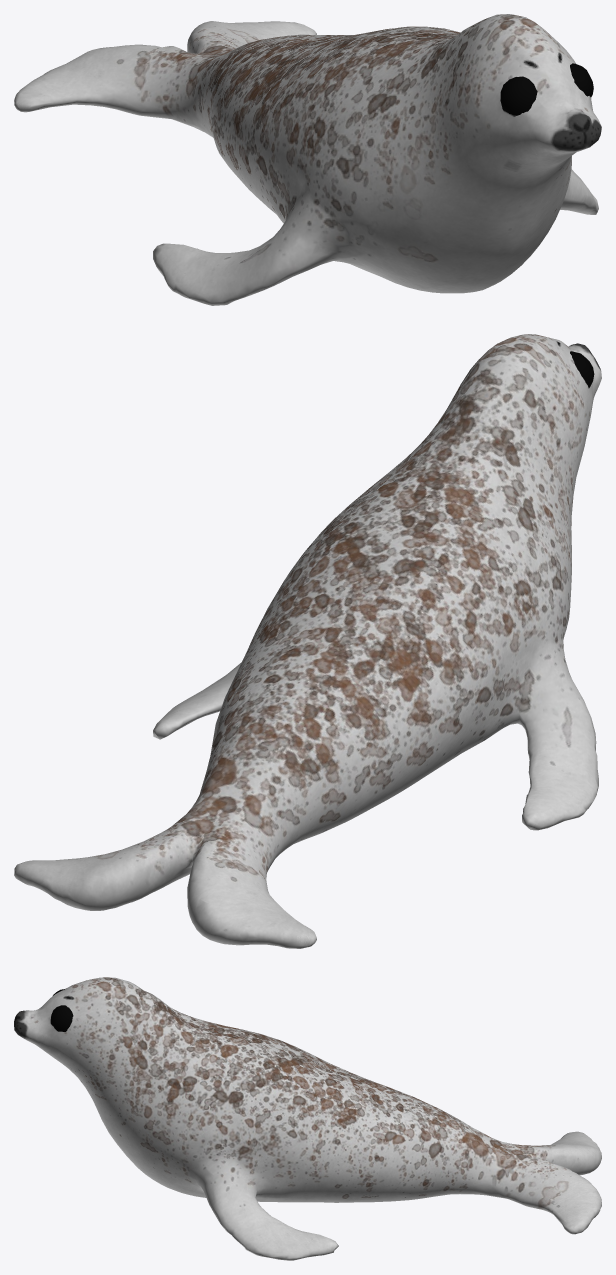
File: Seal.glb
3 renders of one model, top to bottom at view 1: azimuth 30°, elevation 25°; view 2: azimuth 150°, elevation 25°; view 3: azimuth 270°, elevation 25°, orthographic. The views are drawn at different scales.
Parts seen in each view (by area): view 1: pSphere5 (×2); view 2: pSphere5; view 3: pSphere5 (×2).
Part boxes in pixels (x1,y1,x2,y2): pSphere5 (×2): (14, 14, 601, 305); pSphere5: (14, 334, 601, 948); pSphere5 (×2): (14, 977, 601, 1260).
Bounding box in the file's own units: 1.08 × 0.8104 × 2.
Materials: 2 (2 with a texture image).
